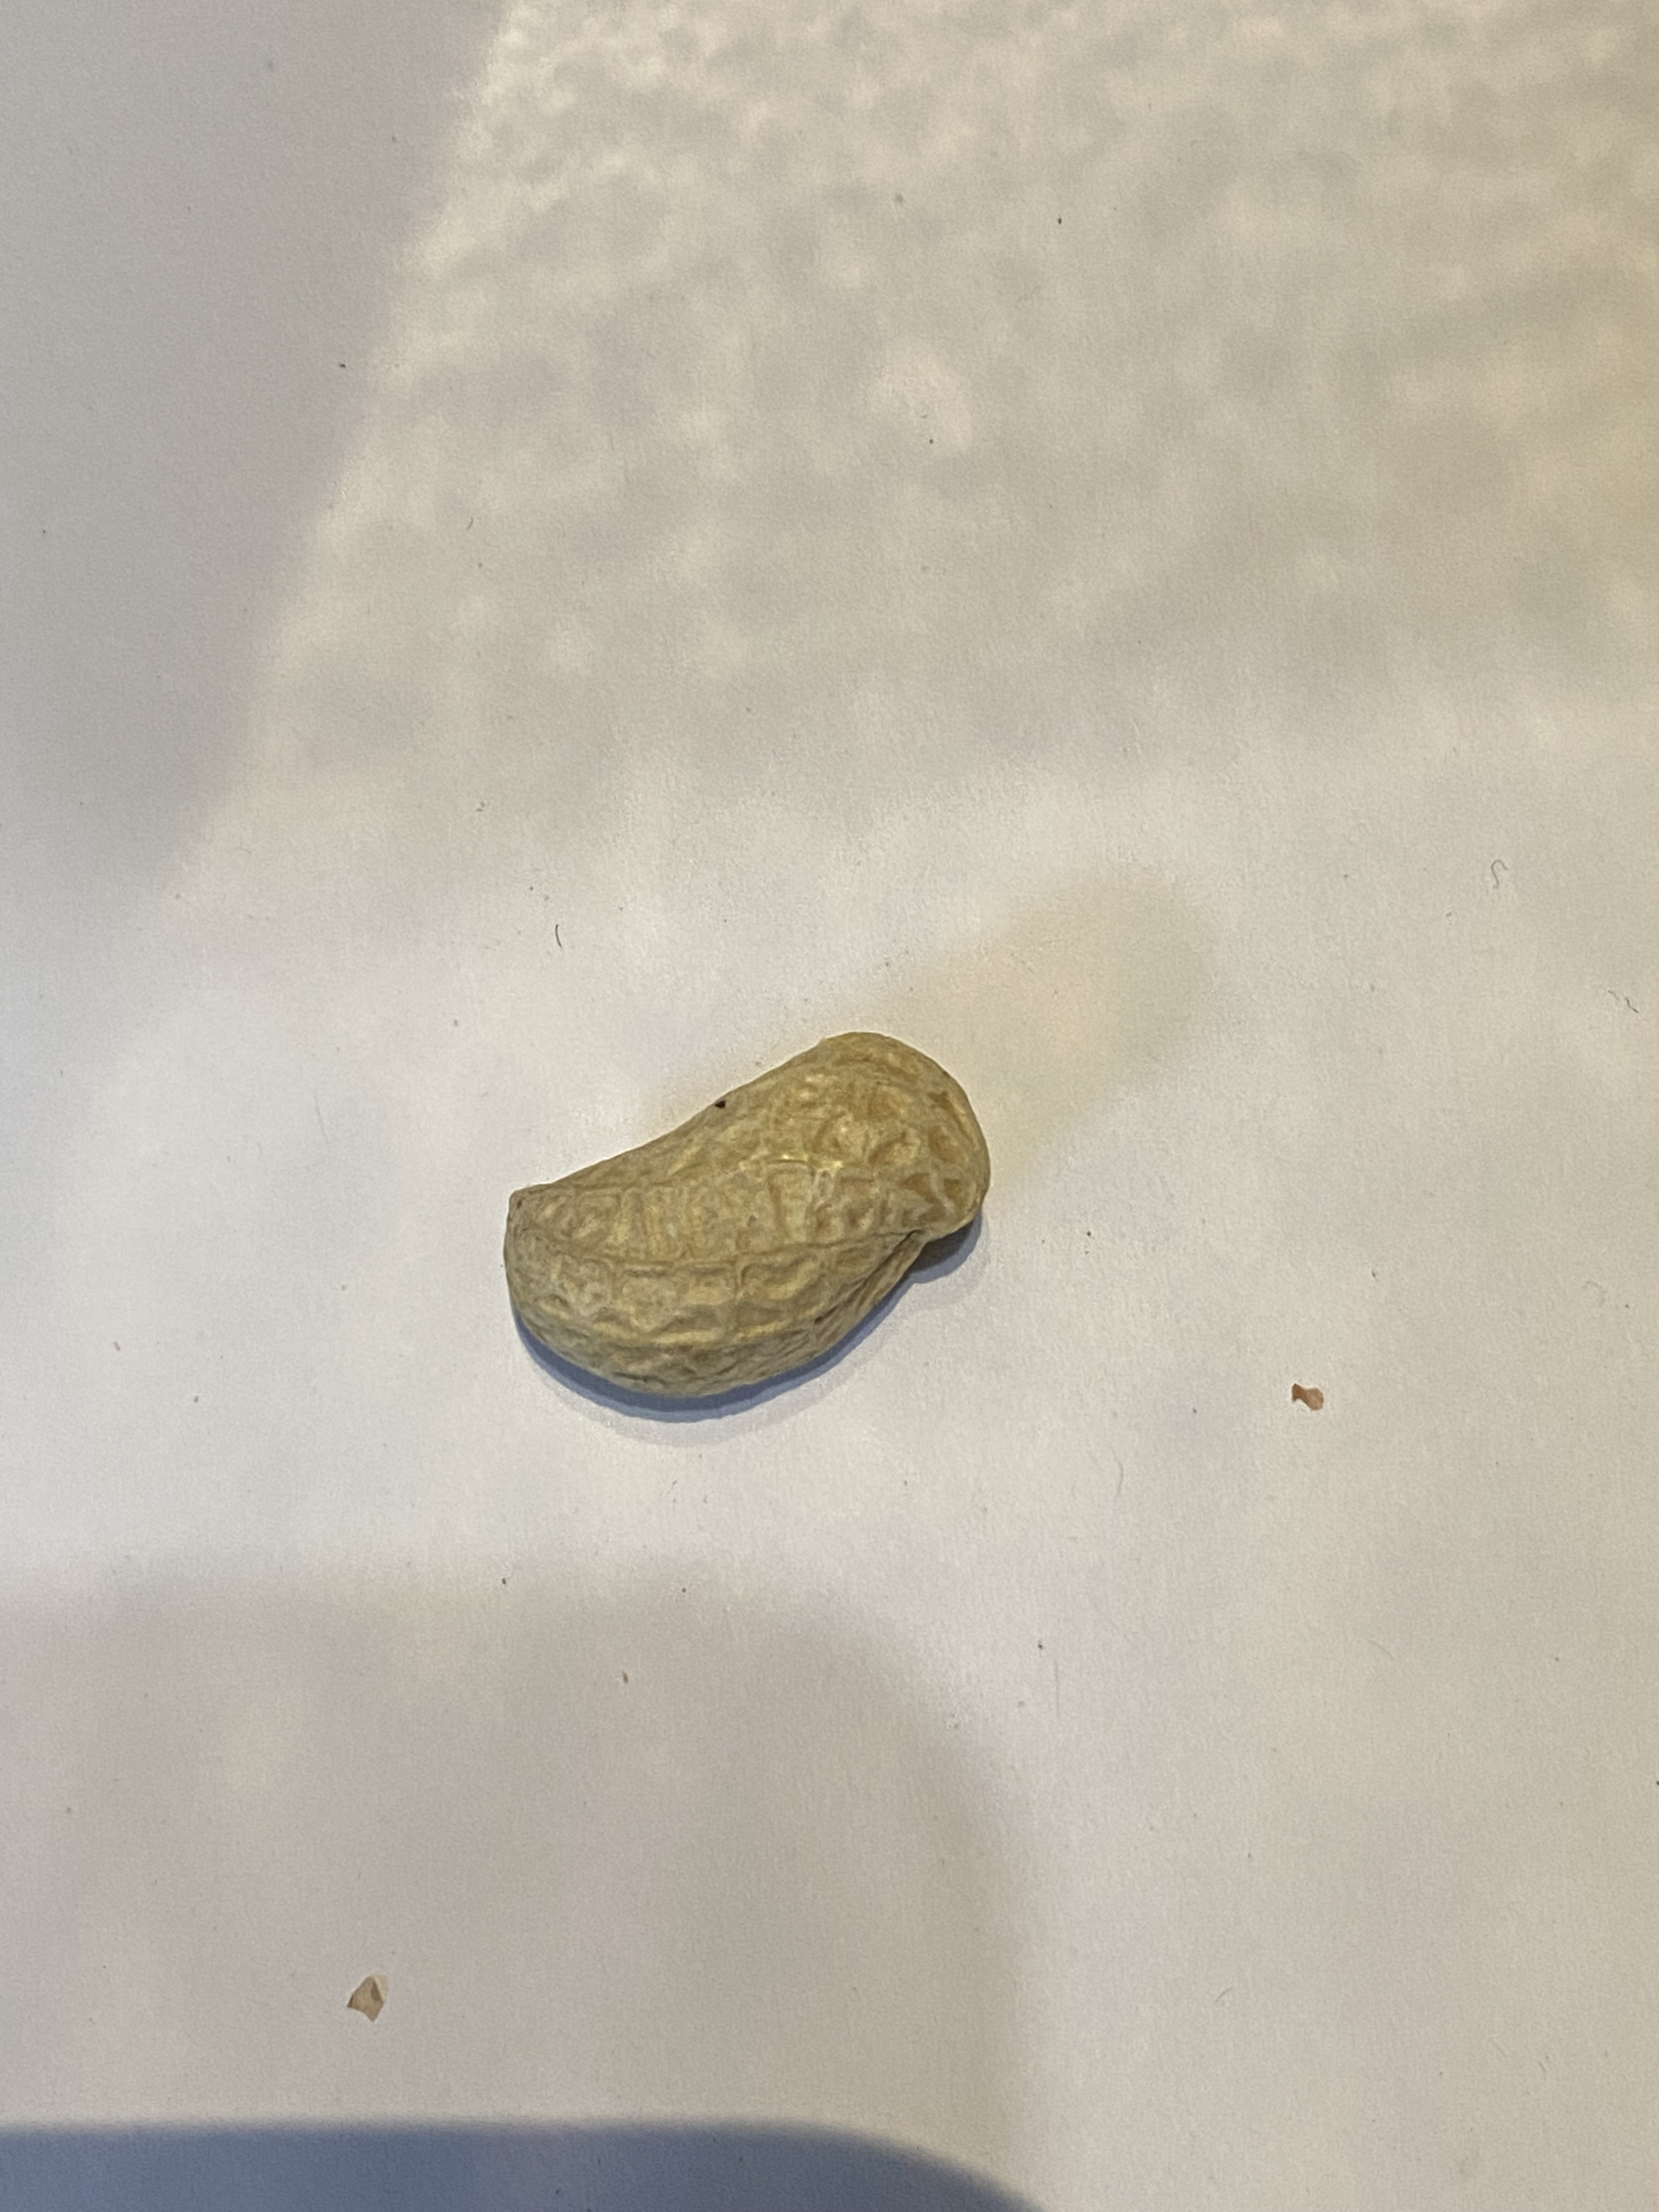kacang1: (439, 986, 1030, 1414)
